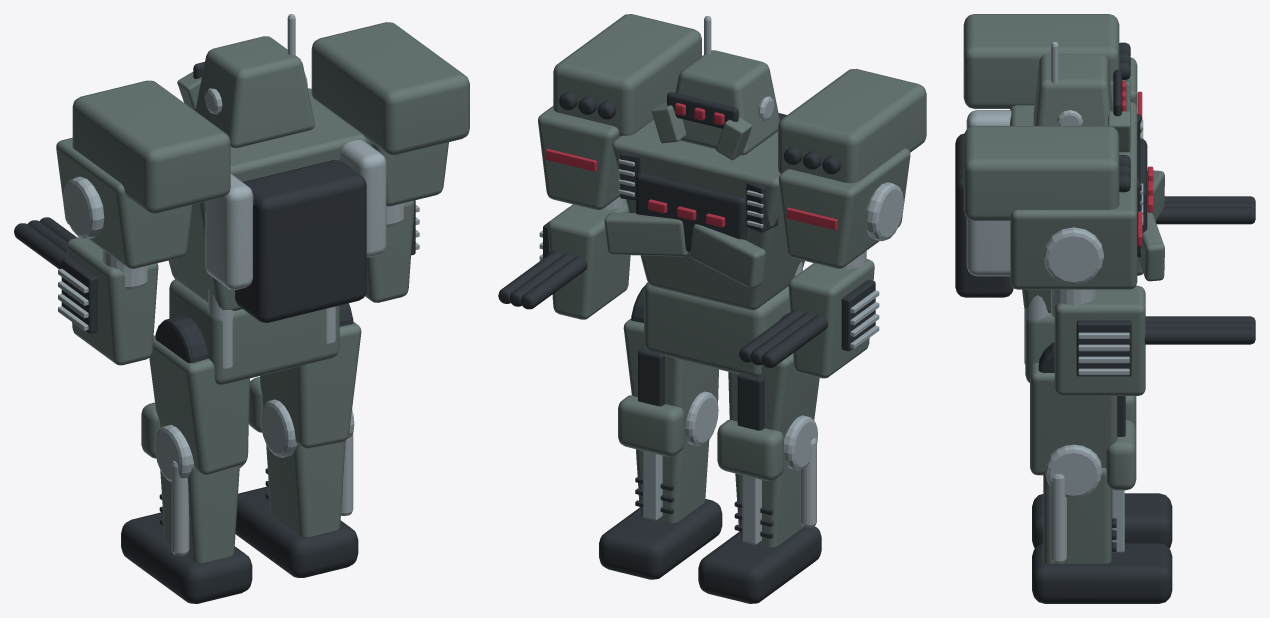
Rendered from MilitaryRobot.fbx.
3 renders of one model, left to right at view 1: azimuth 30°, elevation 25°; view 2: azimuth 150°, elevation 25°; view 3: azimuth 270°, elevation 25°, orthographic. The views are drawn at different scales.
Visible parts, largest first — view 1: RobotRoot_SecurityArmor, RobotRoot_SecurityCarbon, Arm_-1_SecurityArmor, Sensor_SecurityArmor, Thigh_-1_SecurityArmor, Hip_SecurityArmor, Torso_SecurityArmor, RobotRoot_SecuritySteel, Thigh_1_SecurityArmor, Shin_1_SecurityArmor, Arm_1_SecurityArmor, Shin_-1_SecurityCarbon (+9 smaller); view 2: RobotRoot_SecurityArmor, Torso_SecurityArmor, Arm_-1_SecurityArmor, Arm_1_SecurityArmor, Hip_SecurityArmor, Sensor_SecurityArmor, Shin_1_SecurityArmor, Shin_1_SecurityCarbon, Shin_-1_SecurityCarbon, Shin_-1_SecurityArmor, Torso_SecurityCarbon, Arm_-1_SecurityCarbon (+15 smaller); view 3: RobotRoot_SecurityArmor, Arm_1_SecurityArmor, Shin_1_SecurityCarbon, Thigh_1_SecurityArmor, Sensor_SecurityArmor, Shin_1_SecurityArmor, Arm_1_SecurityCarbon, Arm_1_SecuritySteel, Shin_1_SecuritySteel, RobotRoot_SecurityCarbon, Torso_SecurityArmor, RobotRoot_SecuritySteel (+9 smaller).
Boxes of the visible parts, x1,y1,x2,y2 form: RobotRoot_SecurityArmor: (72,22,469,213); RobotRoot_SecurityCarbon: (235,160,366,322); Arm_-1_SecurityArmor: (56,137,192,365); Sensor_SecurityArmor: (177,36,314,147); Thigh_-1_SecurityArmor: (149,335,249,474); Hip_SecurityArmor: (169,279,339,384); Torso_SecurityArmor: (168,88,372,310); RobotRoot_SecuritySteel: (205,140,386,289); Thigh_1_SecurityArmor: (260,321,361,448); Shin_1_SecurityArmor: (249,377,345,536); Arm_1_SecurityArmor: (365,142,448,302); Shin_-1_SecurityCarbon: (121,494,252,603); RobotRoot_SecurityArmor: (553,14,926,183); Torso_SecurityArmor: (604,119,804,310); Arm_-1_SecurityArmor: (778,148,910,378); Arm_1_SecurityArmor: (538,106,630,319); Hip_SecurityArmor: (644,282,790,376); Sensor_SecurityArmor: (651,50,779,160); Shin_1_SecurityArmor: (618,395,709,523); Shin_1_SecurityCarbon: (599,477,722,579); Shin_-1_SecurityCarbon: (698,501,821,603); Shin_-1_SecurityArmor: (717,419,803,547); Torso_SecurityCarbon: (620,152,778,252); Arm_-1_SecurityCarbon: (739,279,875,367); RobotRoot_SecurityArmor: (963,14,1119,220); Arm_1_SecurityArmor: (1010,177,1145,395); Shin_1_SecurityCarbon: (1032,518,1172,603); Thigh_1_SecurityArmor: (1030,362,1117,475); Sensor_SecurityArmor: (1033,54,1130,152); Shin_1_SecurityArmor: (1043,419,1136,563); Arm_1_SecurityCarbon: (1076,316,1255,376); Arm_1_SecuritySteel: (1043,227,1129,375); Shin_1_SecuritySteel: (1045,444,1124,563); RobotRoot_SecurityCarbon: (955,42,1130,297); Torso_SecurityArmor: (1010,102,1164,312); RobotRoot_SecuritySteel: (966,110,1011,276).
Size of the model in its own units: 2.54 by 3.82 by 1.93.
